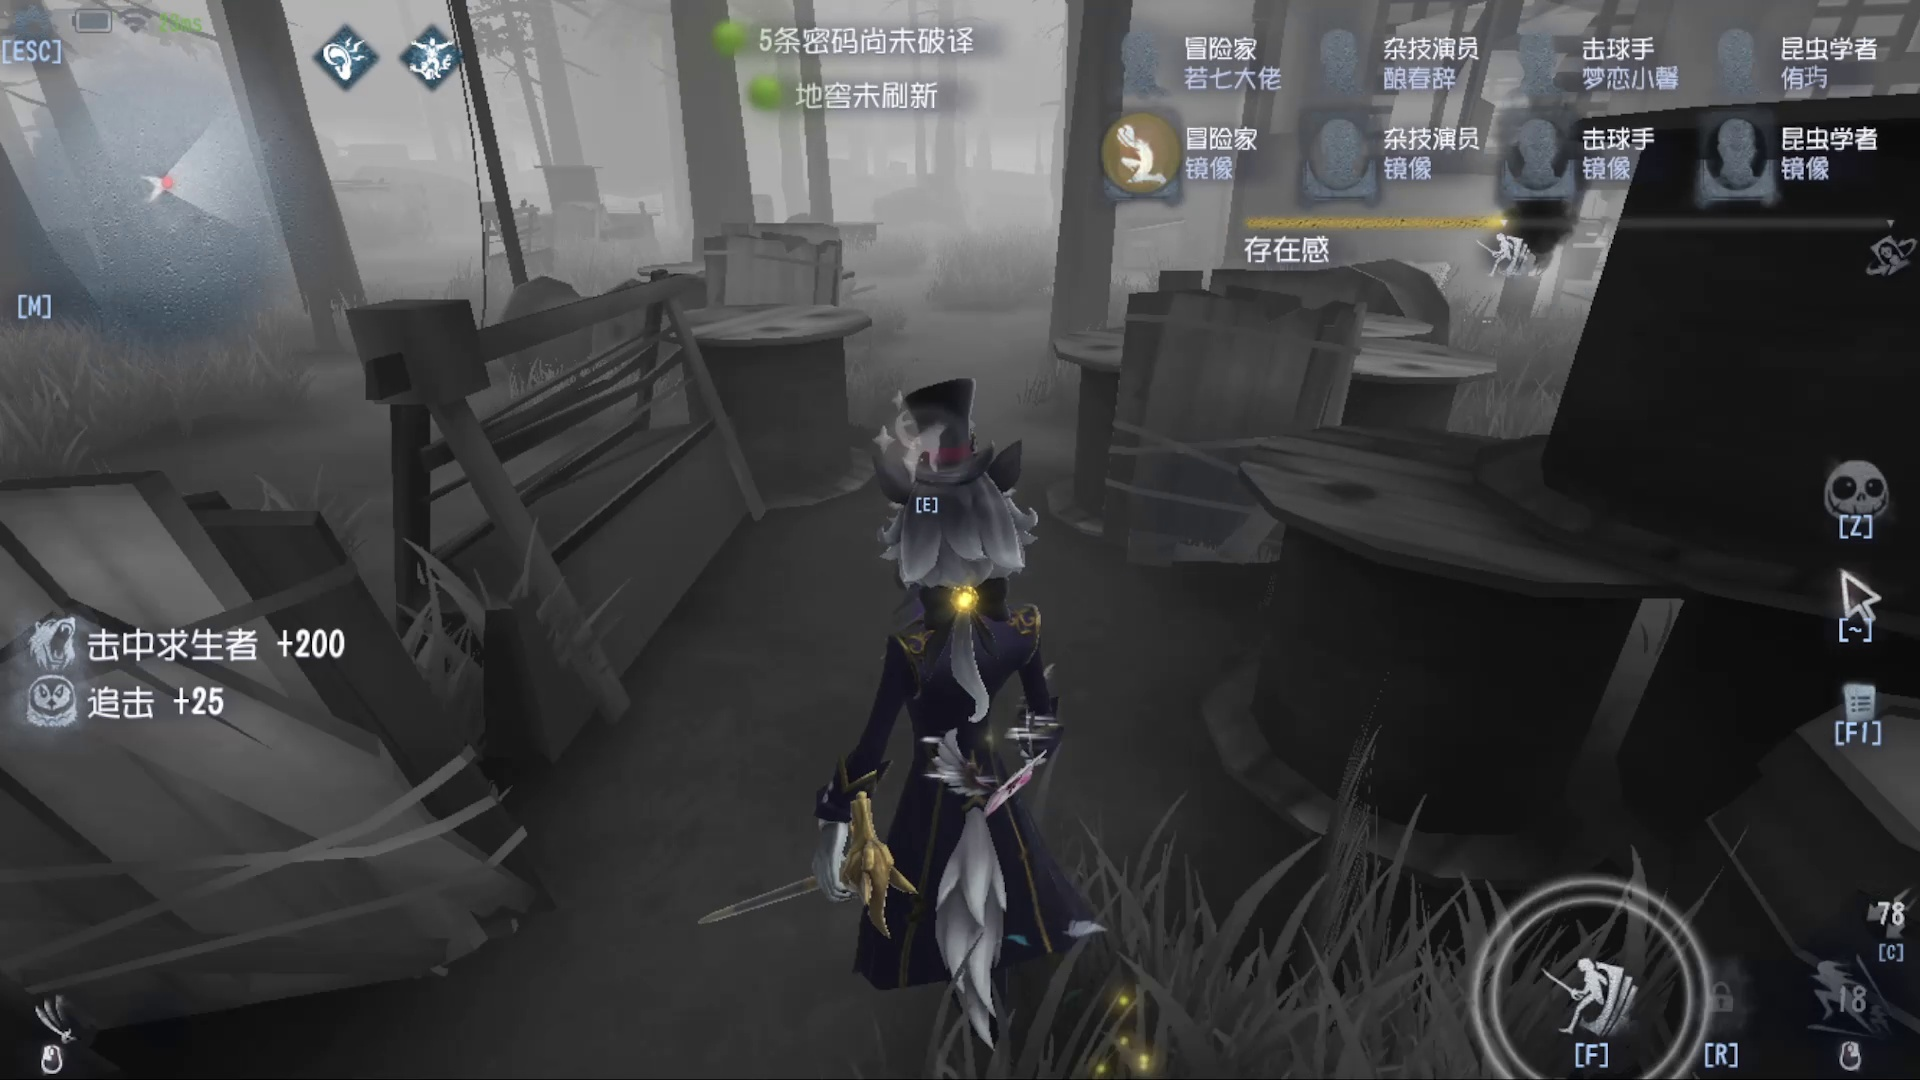木板: (1, 444, 597, 981), (1085, 273, 1362, 584), (686, 202, 847, 316)
